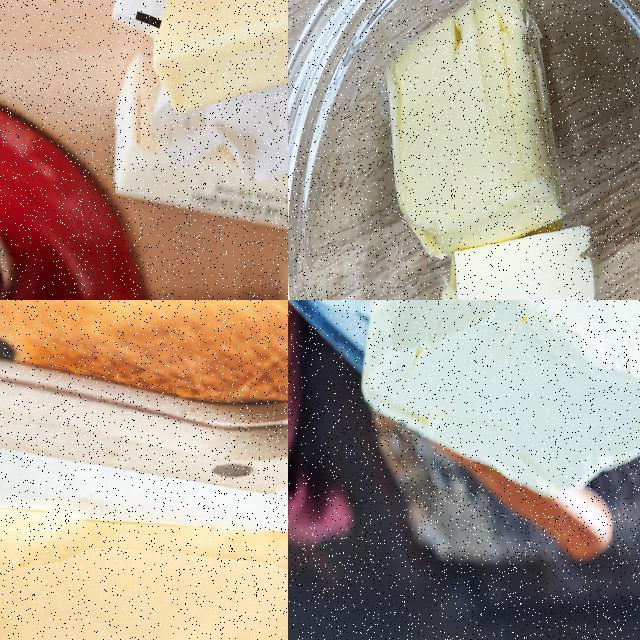Butter: (385, 0, 597, 299), (358, 300, 639, 500), (0, 467, 287, 639), (155, 0, 287, 112)
